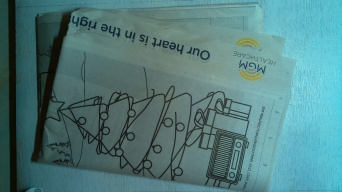p: (30, 8, 288, 192)
